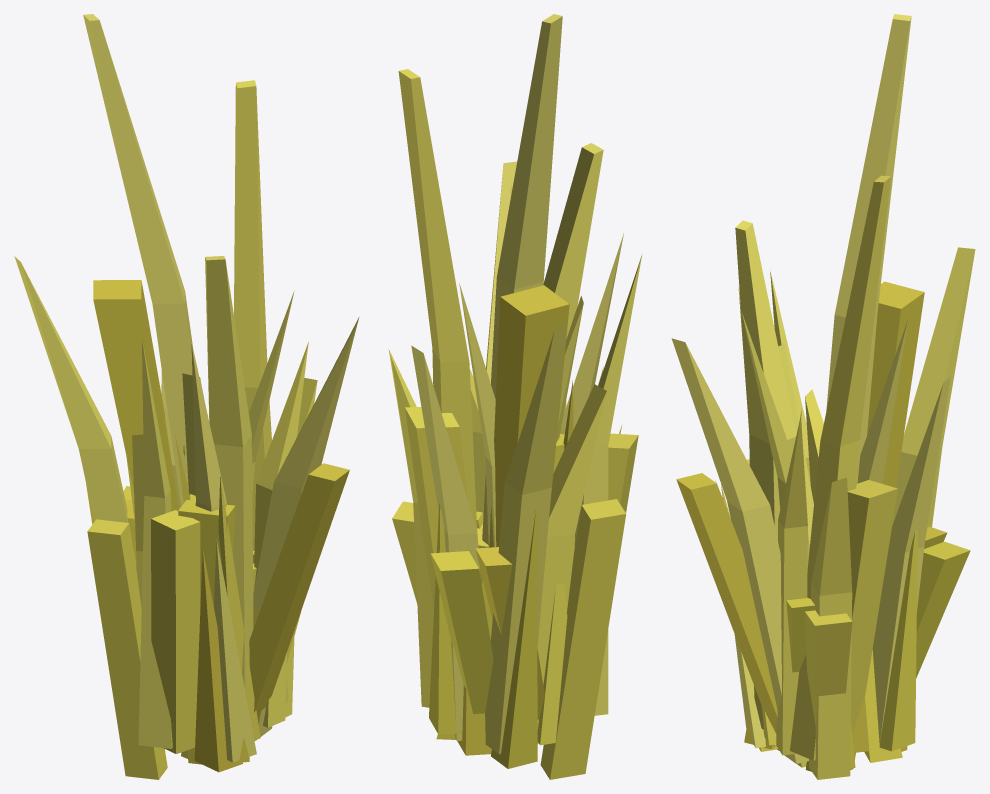
Rendered from Glass_Yellow_Green_G.fbx.
3 renders of one model, left to right at view 1: azimuth 30°, elevation 25°; view 2: azimuth 150°, elevation 25°; view 3: azimuth 270°, elevation 25°, orthographic. The views are drawn at different scales.
Parts seen in each view (by area): view 1: Glass_Yellow_1, Glass_Yellow_6, Glass_Yellow_9, Glass_Yellow_2, Glass_Yellow_8, Glass_Yellow_5, Glass_Yellow_4, Glass_Yellow_3, Glass_Yellow_12; view 2: Glass_Yellow_6, Glass_Yellow_1, Glass_Yellow_9, Glass_Yellow_5, Glass_Yellow_2, Glass_Yellow_4, Glass_Yellow_8, Glass_Yellow_3, Glass_Yellow_7; view 3: Glass_Yellow_6, Glass_Yellow_1, Glass_Yellow_9, Glass_Yellow_5, Glass_Yellow_2, Glass_Yellow_3, Glass_Yellow_12, Glass_Yellow_8, Glass_Yellow_7.
Boxes of the visible parts, x1,y1,x2,y2 form: Glass_Yellow_1: [83, 14, 288, 704]; Glass_Yellow_6: [14, 256, 359, 762]; Glass_Yellow_9: [87, 463, 349, 779]; Glass_Yellow_2: [138, 339, 308, 748]; Glass_Yellow_8: [125, 500, 254, 753]; Glass_Yellow_5: [93, 280, 235, 764]; Glass_Yellow_4: [86, 483, 260, 772]; Glass_Yellow_3: [126, 456, 260, 740]; Glass_Yellow_12: [248, 291, 294, 495]; Glass_Yellow_6: [388, 161, 622, 754]; Glass_Yellow_1: [398, 14, 603, 544]; Glass_Yellow_9: [392, 499, 626, 779]; Glass_Yellow_5: [405, 285, 569, 607]; Glass_Yellow_2: [459, 233, 642, 715]; Glass_Yellow_4: [457, 508, 567, 768]; Glass_Yellow_8: [475, 433, 638, 719]; Glass_Yellow_3: [429, 367, 603, 734]; Glass_Yellow_7: [436, 380, 573, 739]; Glass_Yellow_6: [671, 247, 975, 779]; Glass_Yellow_1: [735, 14, 911, 760]; Glass_Yellow_9: [676, 473, 970, 733]; Glass_Yellow_5: [777, 281, 924, 771]; Glass_Yellow_2: [738, 269, 908, 755]; Glass_Yellow_3: [761, 530, 917, 752]; Glass_Yellow_12: [741, 312, 809, 566]; Glass_Yellow_8: [747, 459, 946, 672]; Glass_Yellow_7: [744, 408, 902, 762].
Bounding box in the file's own units: 70.86 × 215 × 82.33.
